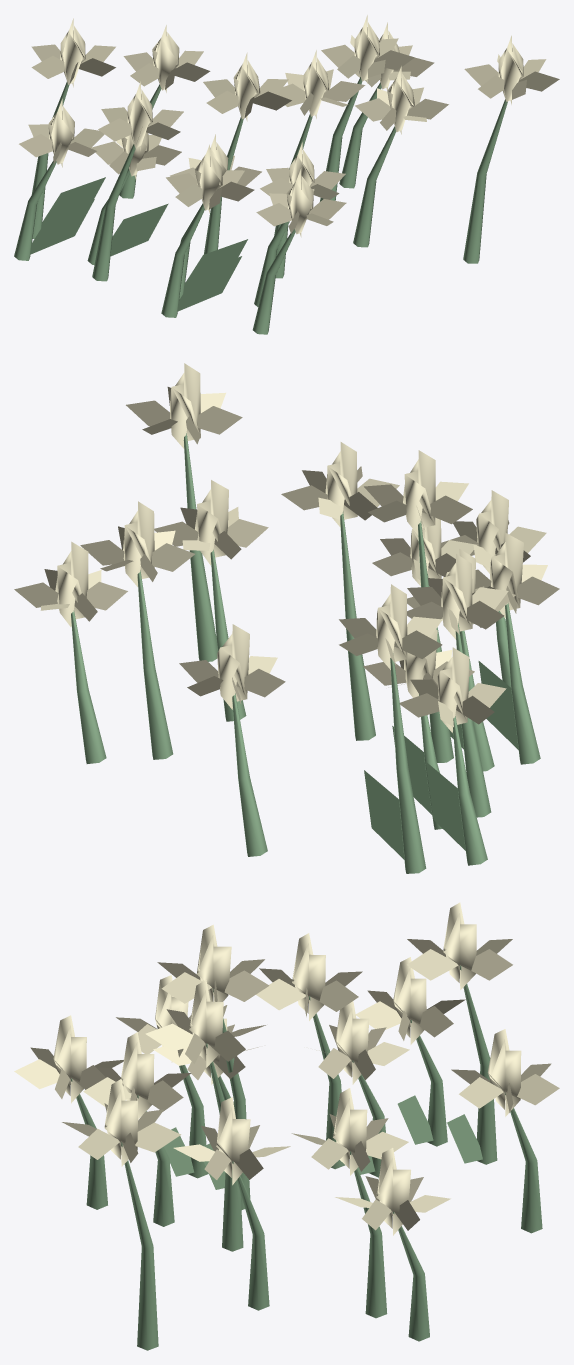
The model's file is flower_ivory.glb.
3 views of the same model, one above another, from view 1: azimuth 30°, elevation 25°; view 2: azimuth 150°, elevation 25°; view 3: azimuth 270°, elevation 25° (orthographic). The views are drawn at different scales.
Visible parts, largest first — view 1: flower_ivory; view 2: flower_ivory; view 3: flower_ivory.
Boxes of the visible parts, box(x1,y1,x2,y2) form: flower_ivory: box(14, 15, 559, 334); flower_ivory: box(14, 363, 559, 873); flower_ivory: box(14, 902, 559, 1350).
Bounding box in the file's own units: 1.38 × 0.7618 × 1.25.
